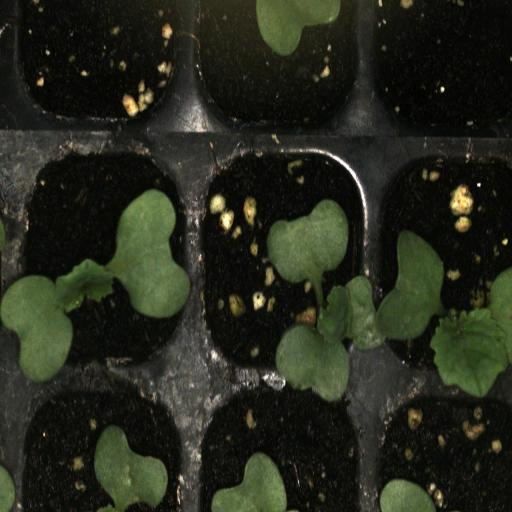noseedling: (14, 0, 190, 142), (371, 0, 512, 148)
seedling: (8, 148, 191, 378), (193, 146, 373, 374), (374, 145, 512, 379)
